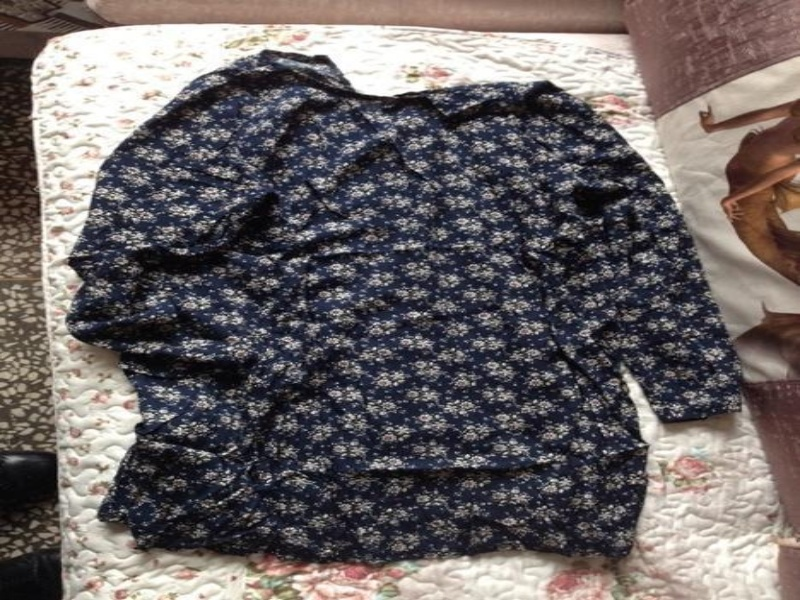long_sleeved_dress: (58, 50, 752, 570)
